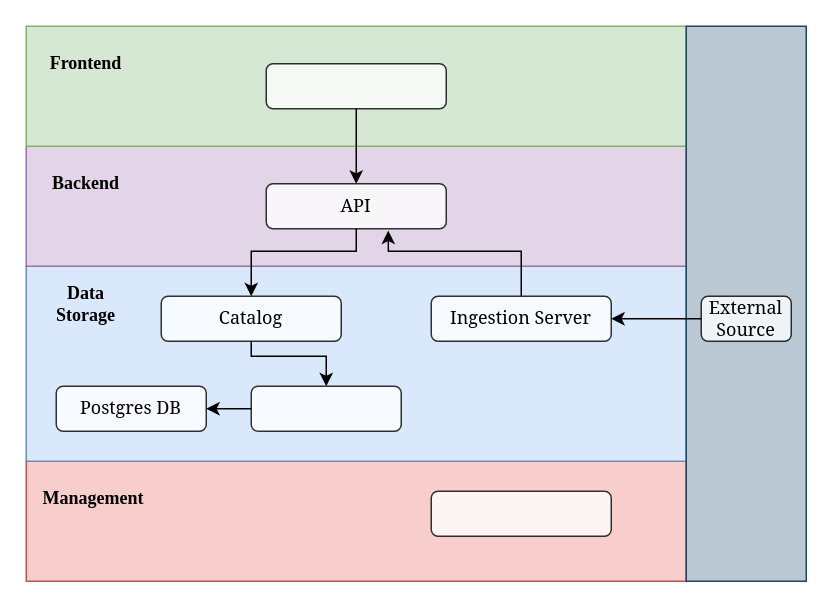
Image size: 833x608. Some labels were removed from this diagram. The shapes that lost their labels are listed below. From the top down, each one's centre as x and y in pixels, then its label:
At point (355, 85): "User Interface".
At point (325, 408): "Airflow".
At point (520, 513): "Automation".
